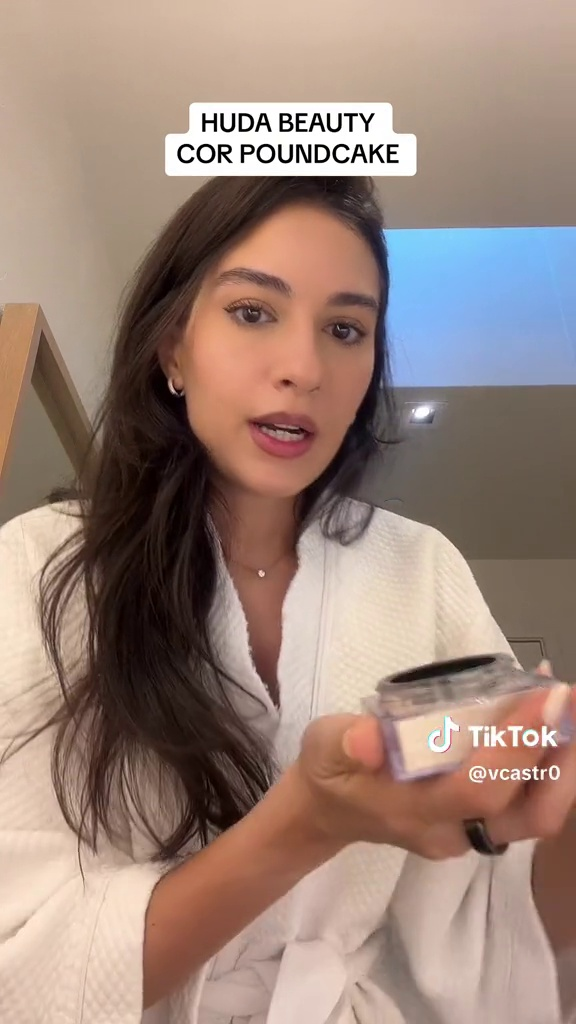train' :'yolo_data/train/images',: (350, 643, 556, 788)
